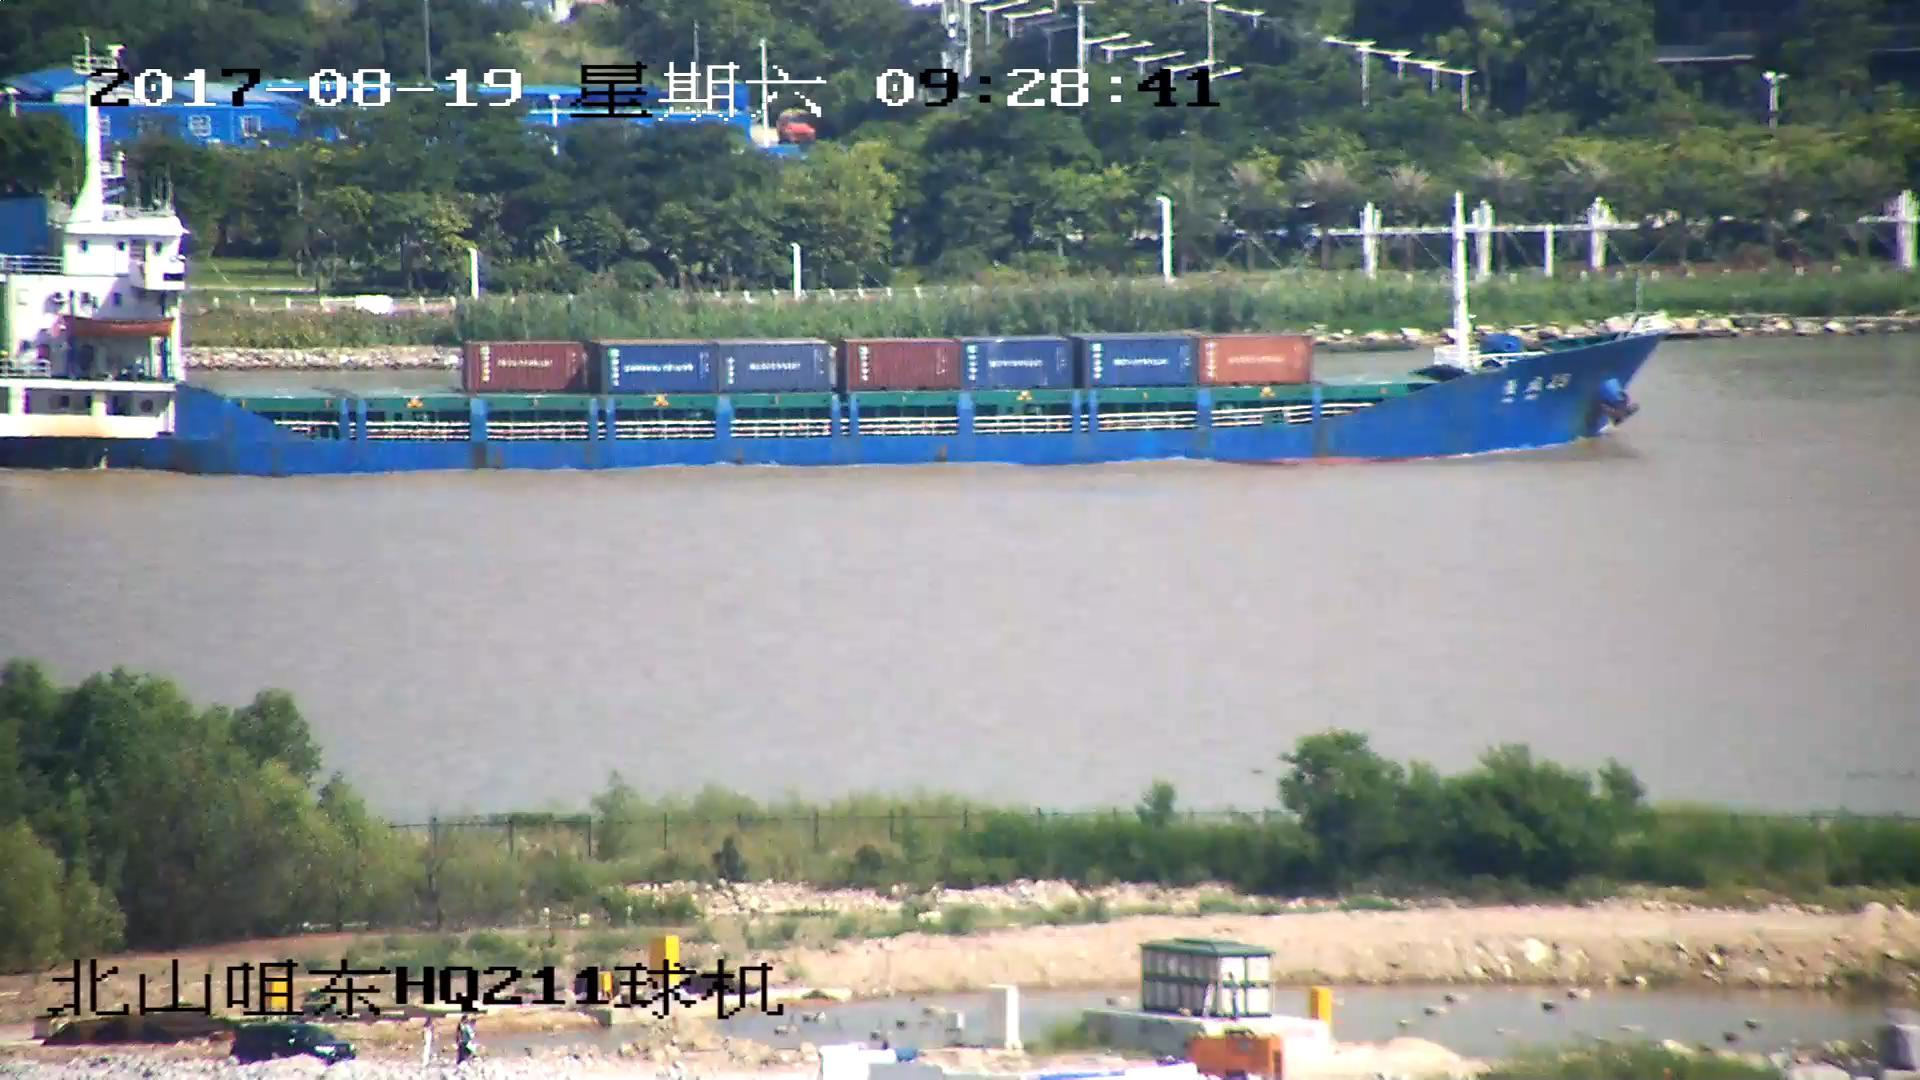Ship: (3, 105, 1669, 473)
